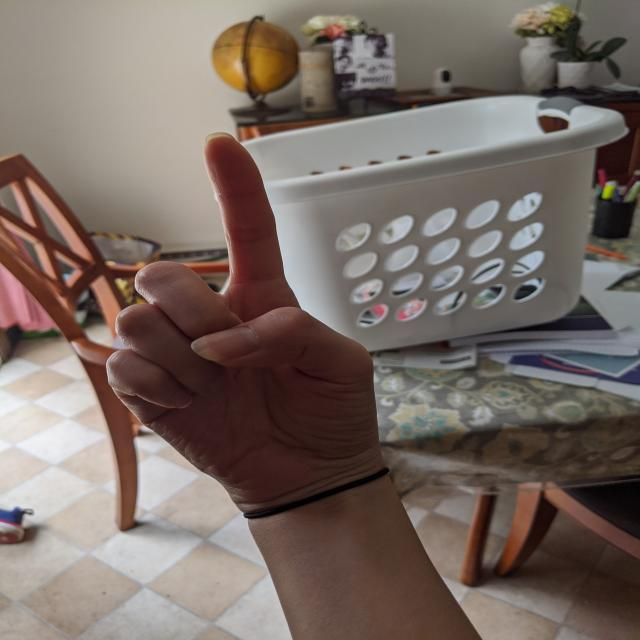D: (101, 128, 387, 512)
